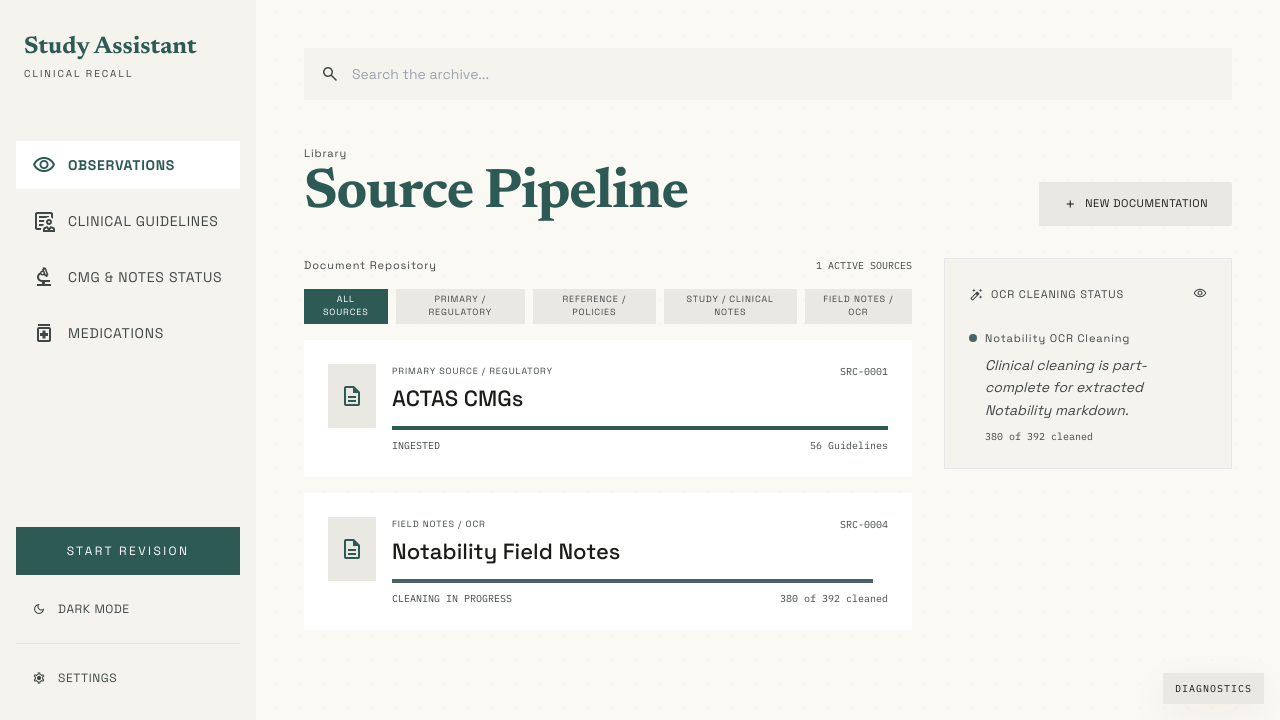
Test: Library › filters repository cards using API data
This screenshot has width=1280, height=720.
Expected: the text "ACTAS CMGs" is shown, [392,384,523,412]
Click the button "Field Notes / OCR": (858, 306) [805,289,912,324]
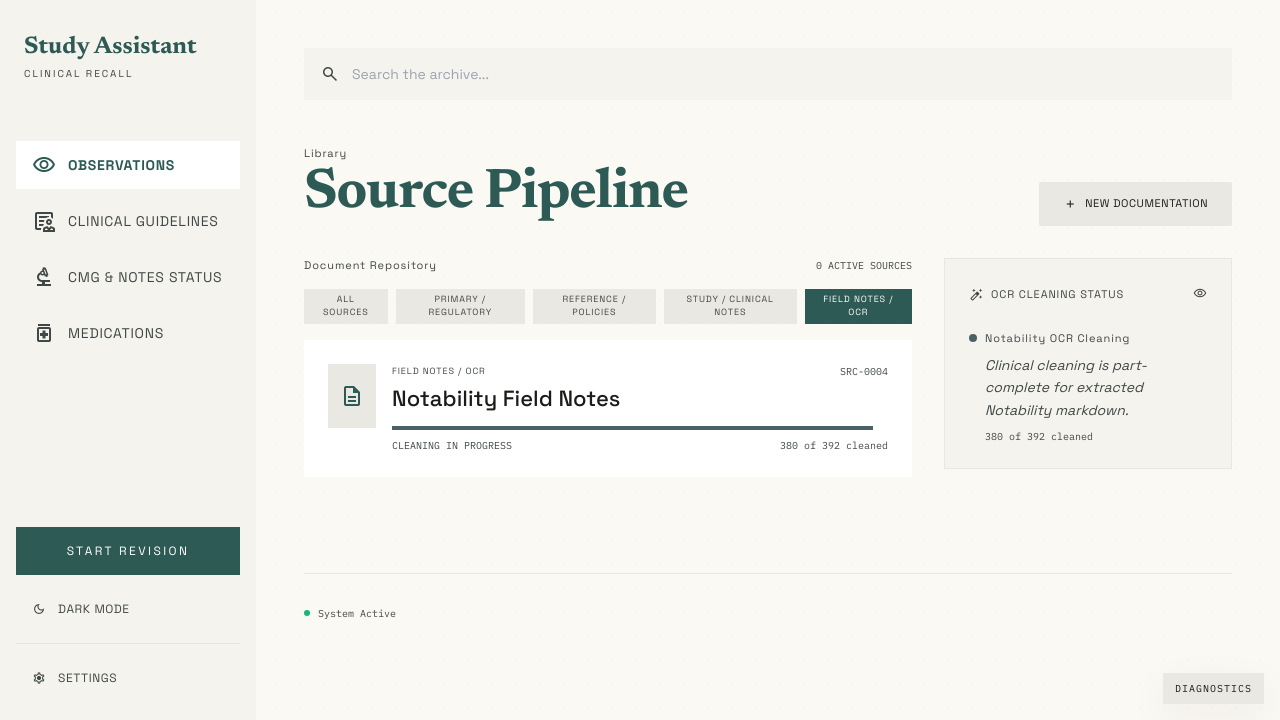
Expected: the text "Notability Field Notes" is shown, [392,384,620,412]
Expected: the text "ACTAS CMGs" is gone
